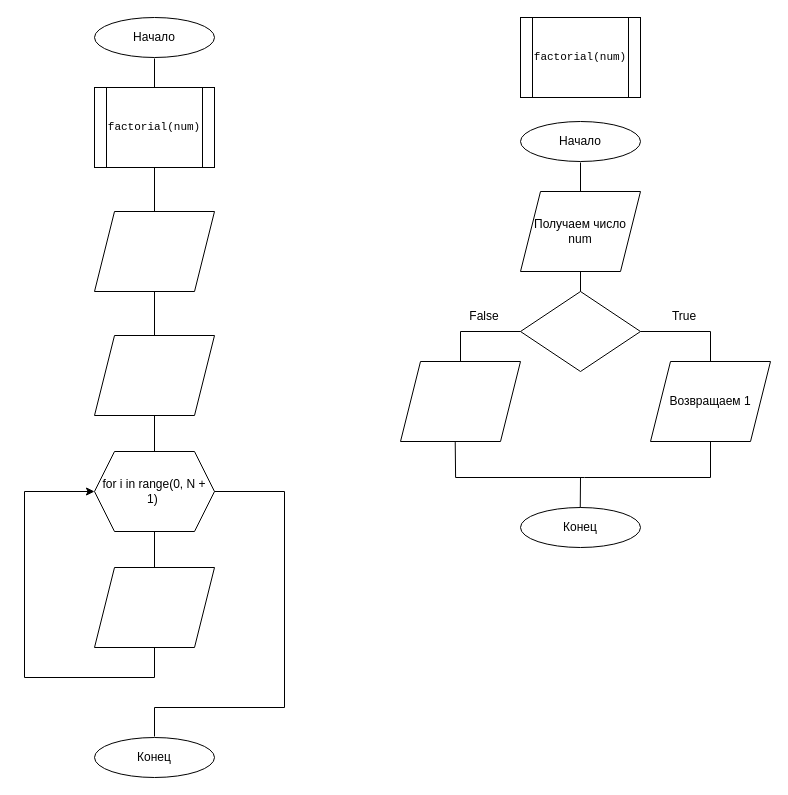
The diagram is 788 pixels wide and 795 high, and some of its shapes have lost their labels. Each missing label, with the box of its shape:
num = 0: (520, 290, 640, 372)
Вводим число N: (94, 210, 214, 292)
Возвращаем num * factorial(num - 1): (400, 360, 520, 442)
Выводим строку 'Факториалы от 1 до n': (94, 334, 214, 416)
Выводим число i и факториал числа i: (94, 566, 214, 648)
